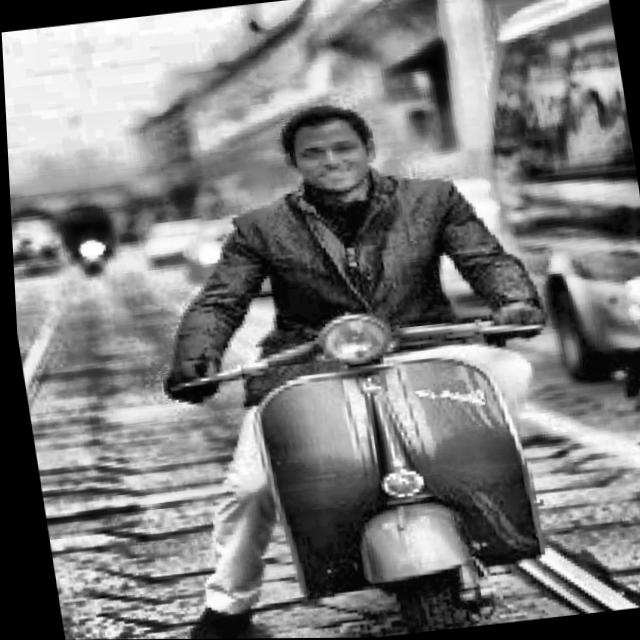motorcycle: (138, 255, 602, 639)
